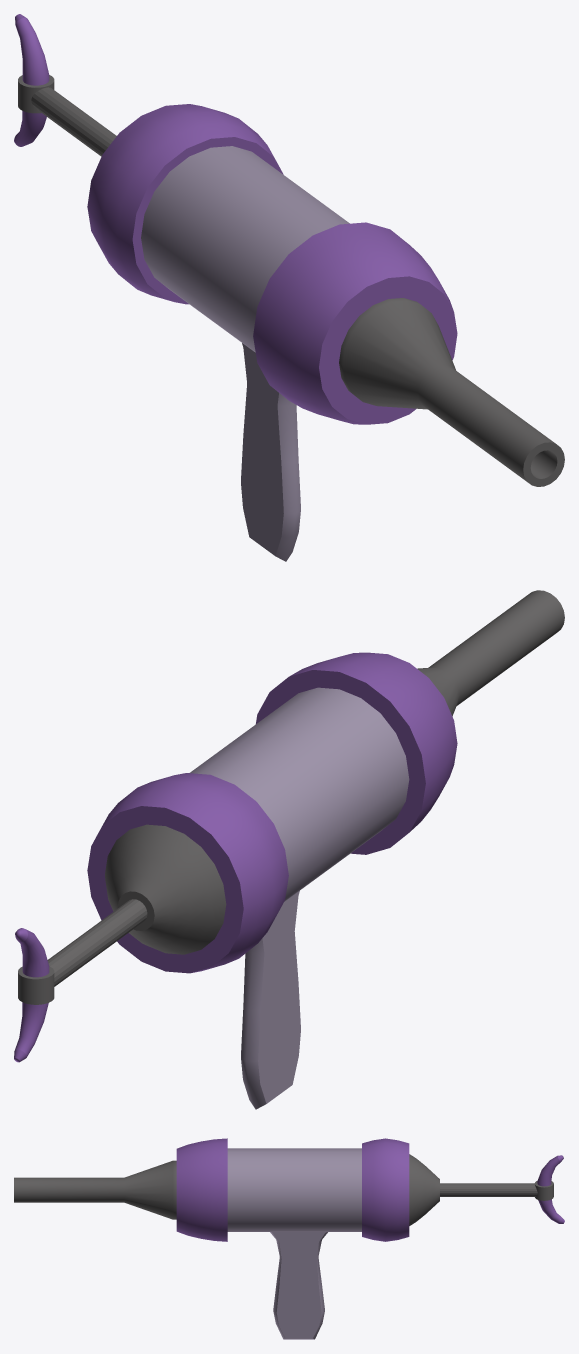
File: Gun_04.fbx
The picture shows the model from 3 angles, top to bottom: view 1: azimuth 30°, elevation 25°; view 2: azimuth 150°, elevation 25°; view 3: azimuth 270°, elevation 25°; orthographic projection. The views are drawn at different scales.
Visible parts, largest first — view 1: pCylinder37; view 2: pCylinder37; view 3: pCylinder37.
Part boxes in pixels (bbox=[...]): pCylinder37: bbox=[14, 14, 564, 561]; pCylinder37: bbox=[14, 590, 564, 1109]; pCylinder37: bbox=[14, 1138, 564, 1339].
Size of the model in its own units: 36.83 by 76.66 by 195.
